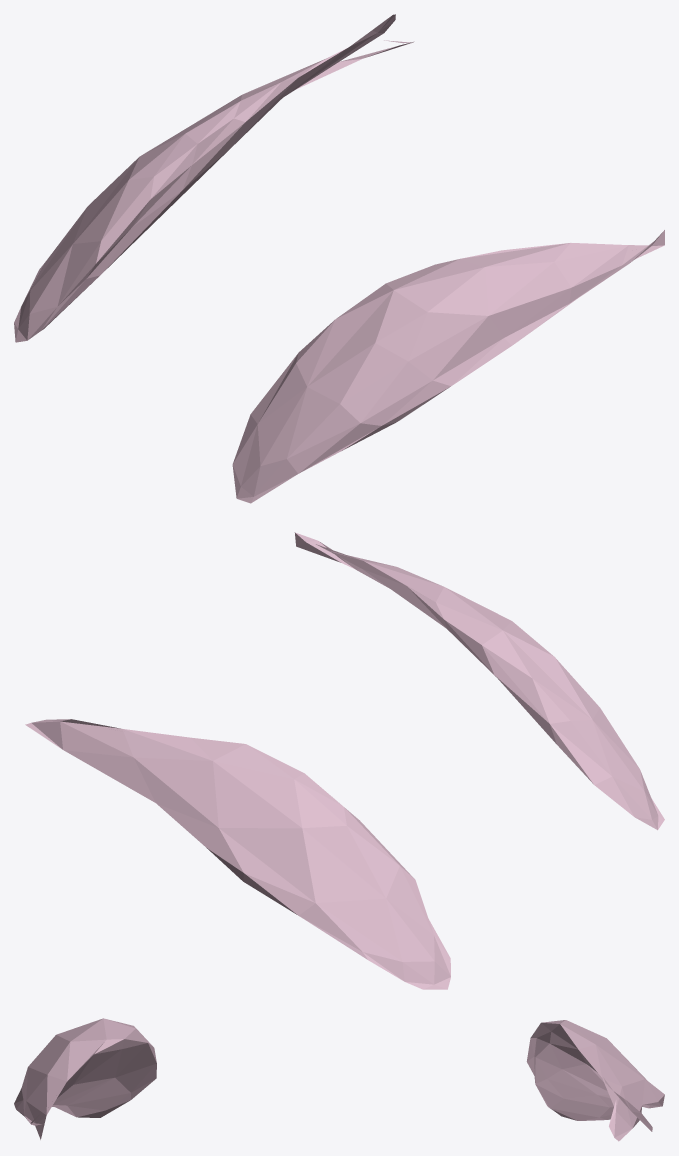
The picture shows the model from 3 angles, top to bottom: view 1: azimuth 30°, elevation 25°; view 2: azimuth 150°, elevation 25°; view 3: azimuth 270°, elevation 25°; orthographic projection. The views are drawn at different scales.
Visible parts, largest first — view 1: 177.obj; view 2: 177.obj; view 3: 177.obj.
Boxes of the visible parts, bbox=[...] form: 177.obj: bbox=[14, 14, 664, 503]; 177.obj: bbox=[25, 532, 664, 989]; 177.obj: bbox=[14, 1018, 664, 1141].
Bounding box in the file's own units: 656 × 321 × 811.
